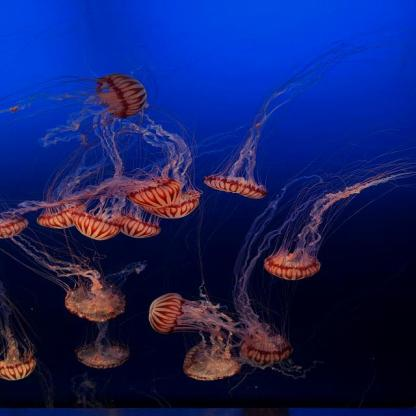jellyfish: (66, 280, 126, 322), (183, 341, 242, 380), (96, 74, 146, 118), (125, 178, 181, 206), (265, 251, 319, 280), (204, 175, 268, 199), (149, 292, 183, 335), (145, 192, 199, 219), (76, 343, 130, 369), (72, 212, 120, 240), (37, 203, 87, 229), (244, 336, 292, 363), (112, 212, 160, 239), (0, 357, 36, 381), (0, 216, 29, 240)
